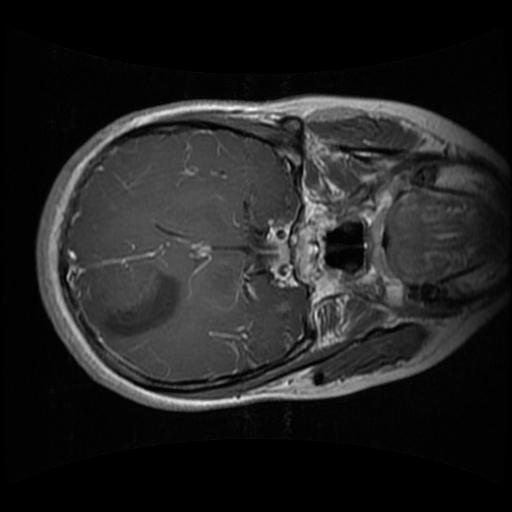glioma: (99, 268, 182, 339)
